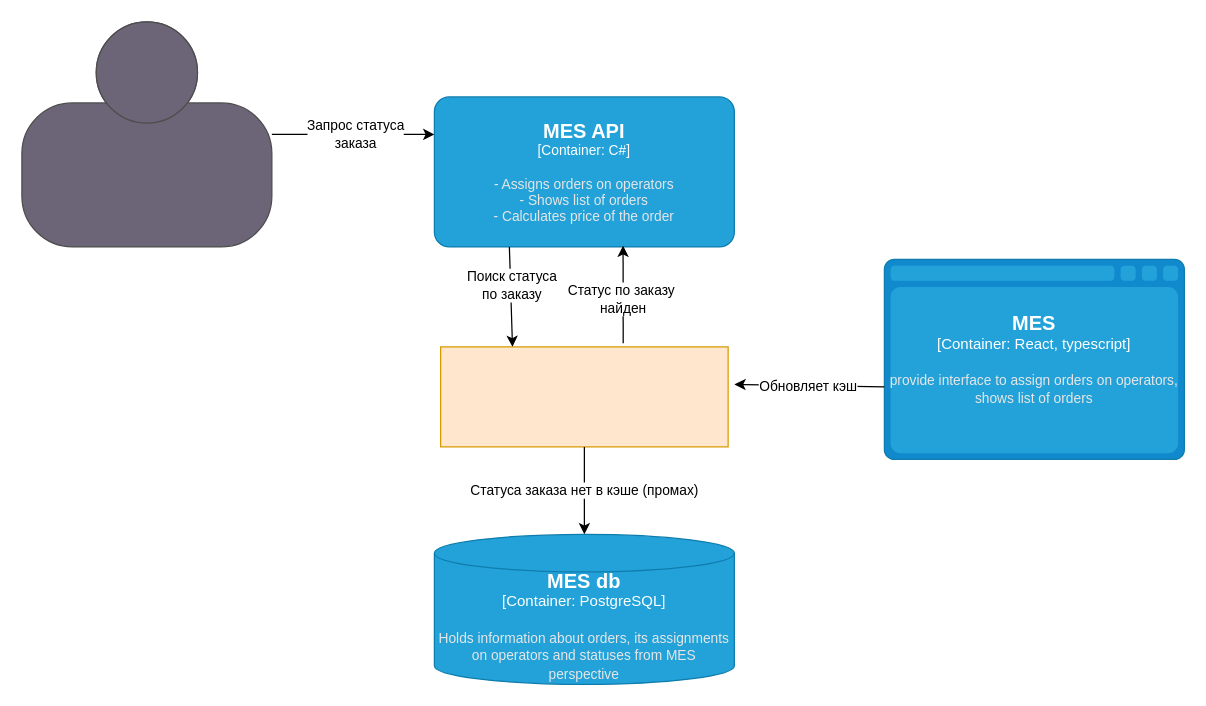
The diagram is 1206 pixels wide and 706 high, and some of its shapes have lost their labels. Each missing label, with the box of its shape:
API user [Person] Description of external person.: (21, 21, 272, 247)
Redis Cache: (439, 346, 728, 447)
